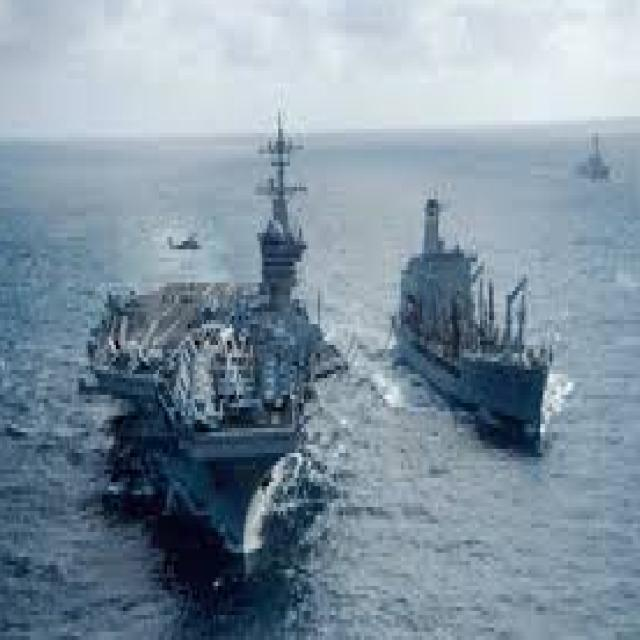navalvessels: (85, 120, 350, 600), (370, 186, 592, 428), (574, 123, 613, 203)
